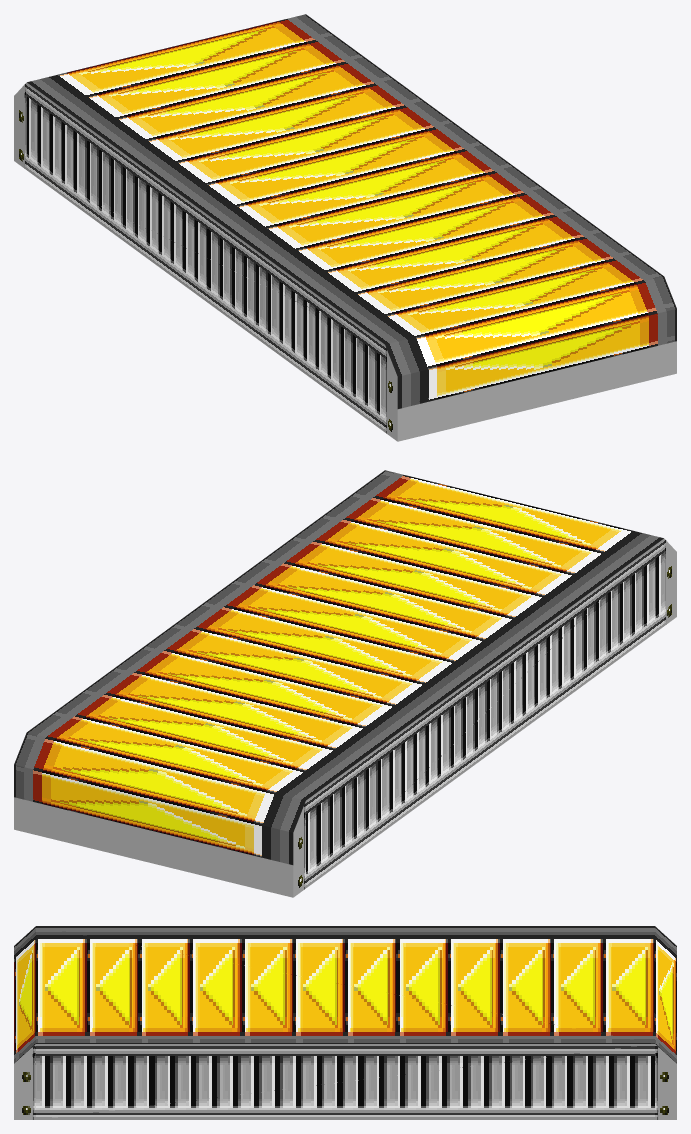
The model's file is ct_mecha_obj04l.glb.
The picture shows the model from 3 angles, top to bottom: view 1: azimuth 30°, elevation 25°; view 2: azimuth 150°, elevation 25°; view 3: azimuth 270°, elevation 25°; orthographic projection. The views are drawn at different scales.
Visible parts, largest first — view 1: ct_mecha_obj04l; view 2: ct_mecha_obj04l; view 3: ct_mecha_obj04l.
Boxes of the visible parts, <box> form: ct_mecha_obj04l: <box>14,14,676,441</box>; ct_mecha_obj04l: <box>14,470,676,897</box>; ct_mecha_obj04l: <box>14,926,676,1119</box>.
Bounding box in the file's own units: 56.25 × 16.92 × 134.
3 materials, 3 textured.
